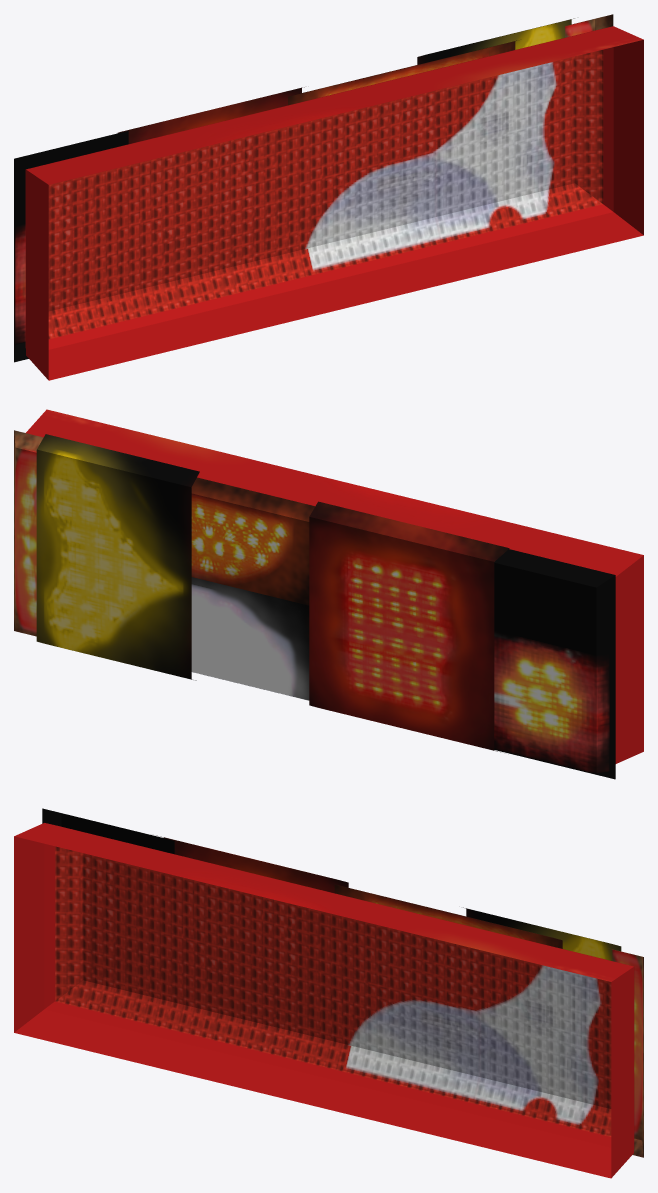
The model's file is VehLight_MTruck_back.FBX.
The picture shows the model from 3 angles, top to bottom: view 1: azimuth 30°, elevation 25°; view 2: azimuth 150°, elevation 25°; view 3: azimuth 330°, elevation 25°; orthographic projection.
Visible parts, largest first — view 1: VehLight MTruck back, Flare MTruck back (Lft) PARKING, Flare MTruck back (Lft) BRAKE, Flare MTruck back (Lft) STEER; view 2: Flare MTruck back (Lft) BRAKE, Flare MTruck back (Lft) PARKING, Flare MTruck back (Lft) STEER, VehLight MTruck back, Flare MTruck back (Lft) REVERSE; view 3: VehLight MTruck back, Flare MTruck back (Lft) BRAKE, Flare MTruck back (Lft) PARKING, Flare MTruck back (Lft) STEER.
Boxes of the visible parts, box(x1,y1,x2,y2) form: VehLight MTruck back: box(25, 26, 643, 380); Flare MTruck back (Lft) PARKING: box(14, 40, 516, 362); Flare MTruck back (Lft) BRAKE: box(118, 14, 613, 143); Flare MTruck back (Lft) STEER: box(417, 18, 574, 64); Flare MTruck back (Lft) BRAKE: box(14, 430, 509, 752); Flare MTruck back (Lft) PARKING: box(191, 477, 615, 779); Flare MTruck back (Lft) STEER: box(36, 434, 199, 680); VehLight MTruck back: box(26, 409, 643, 763); Flare MTruck back (Lft) REVERSE: box(191, 577, 309, 700); VehLight MTruck back: box(14, 823, 634, 1178); Flare MTruck back (Lft) BRAKE: box(156, 835, 643, 1157); Flare MTruck back (Lft) PARKING: box(42, 808, 562, 948); Flare MTruck back (Lft) STEER: box(463, 907, 621, 960).
Size of the model in its own units: 47.4 by 15.81 by 5.64.
Materials: 1 (1 with a texture image).
